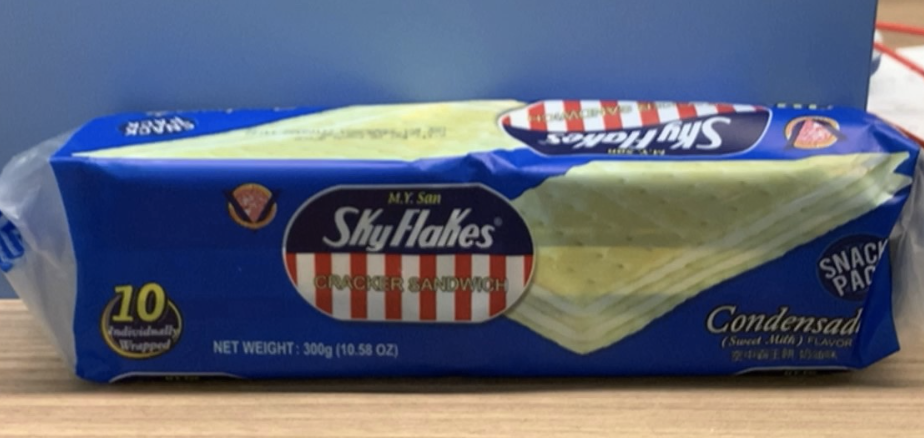crackers_450g: (91, 116, 888, 365)
